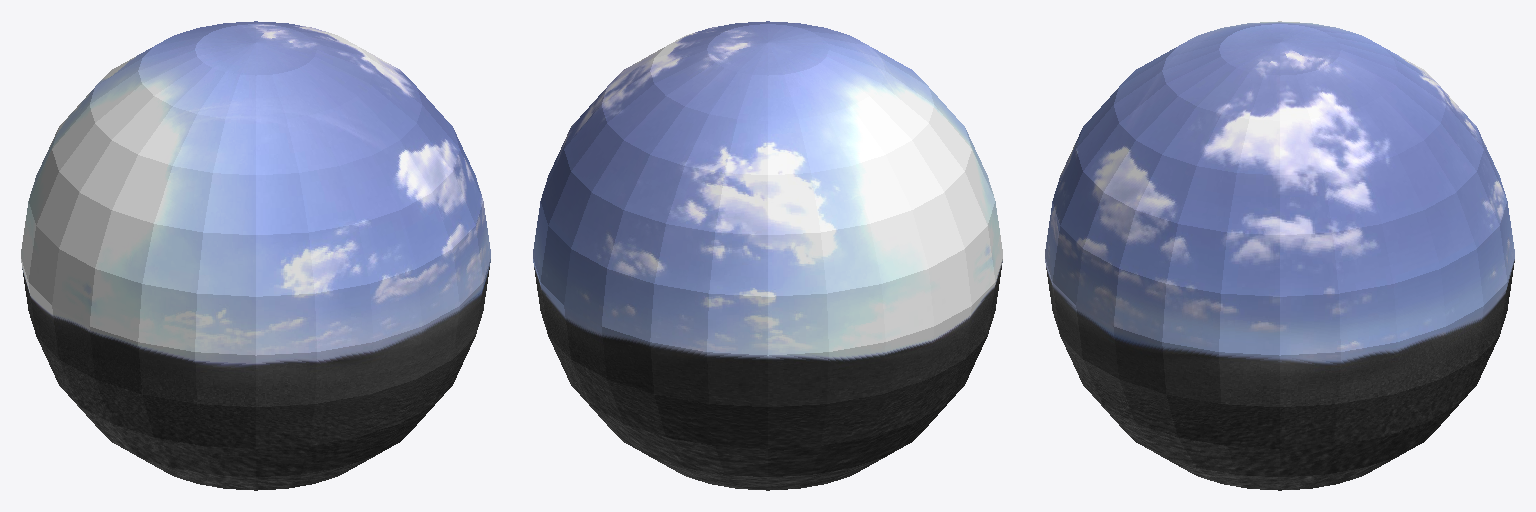
3 renders of one model, left to right at view 1: azimuth 30°, elevation 25°; view 2: azimuth 150°, elevation 25°; view 3: azimuth 270°, elevation 25°, orthographic.
Visible parts, largest first — view 1: sky; view 2: sky; view 3: sky.
Boxes of the visible parts, box(x1,y1,x2,y2) form: sky: box(21, 21, 490, 490); sky: box(533, 21, 1002, 490); sky: box(1045, 21, 1514, 490).
Size of the model in its own units: 10000 by 10000 by 10000.
1 materials, 1 textured.